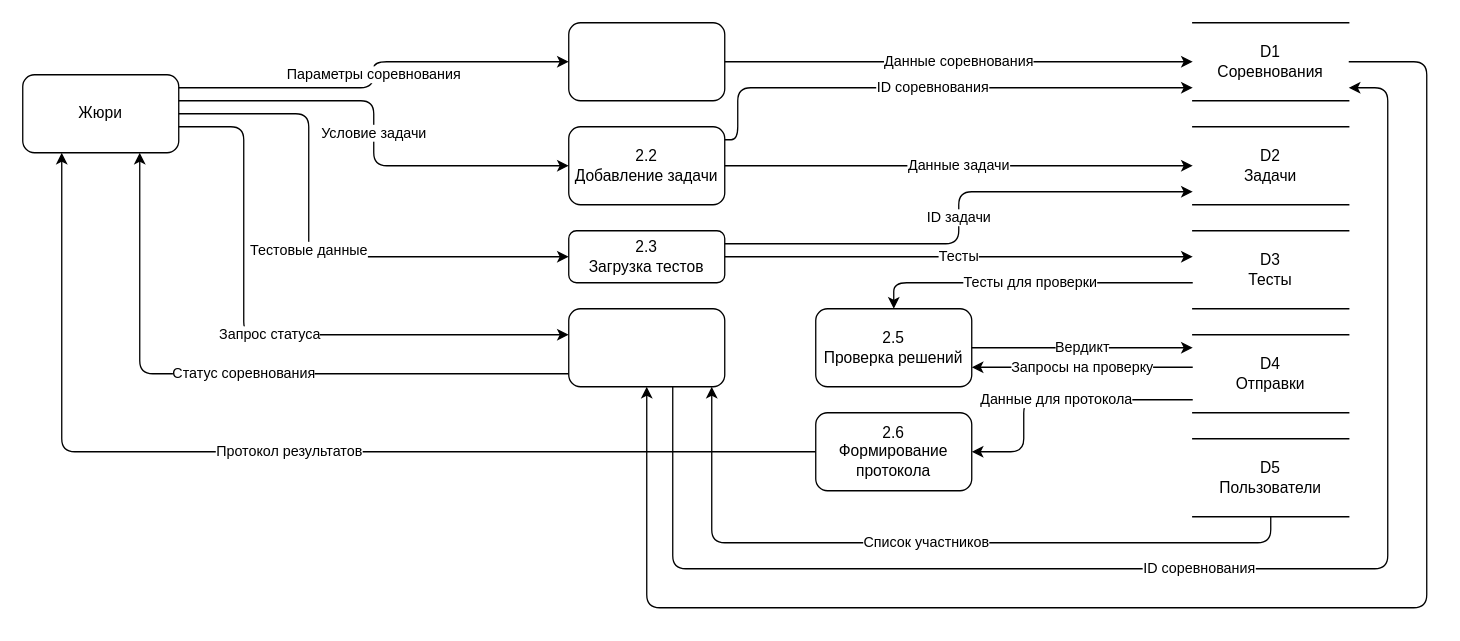
Some shapes in this 1460 by 641 pixel diagram are drawn without their labels. The centre of each missing label's shape, as x and y in pixels:
2.1 Создание соревнования: [646,61]
2.4 Мониторинг соревнования: [646,347]
